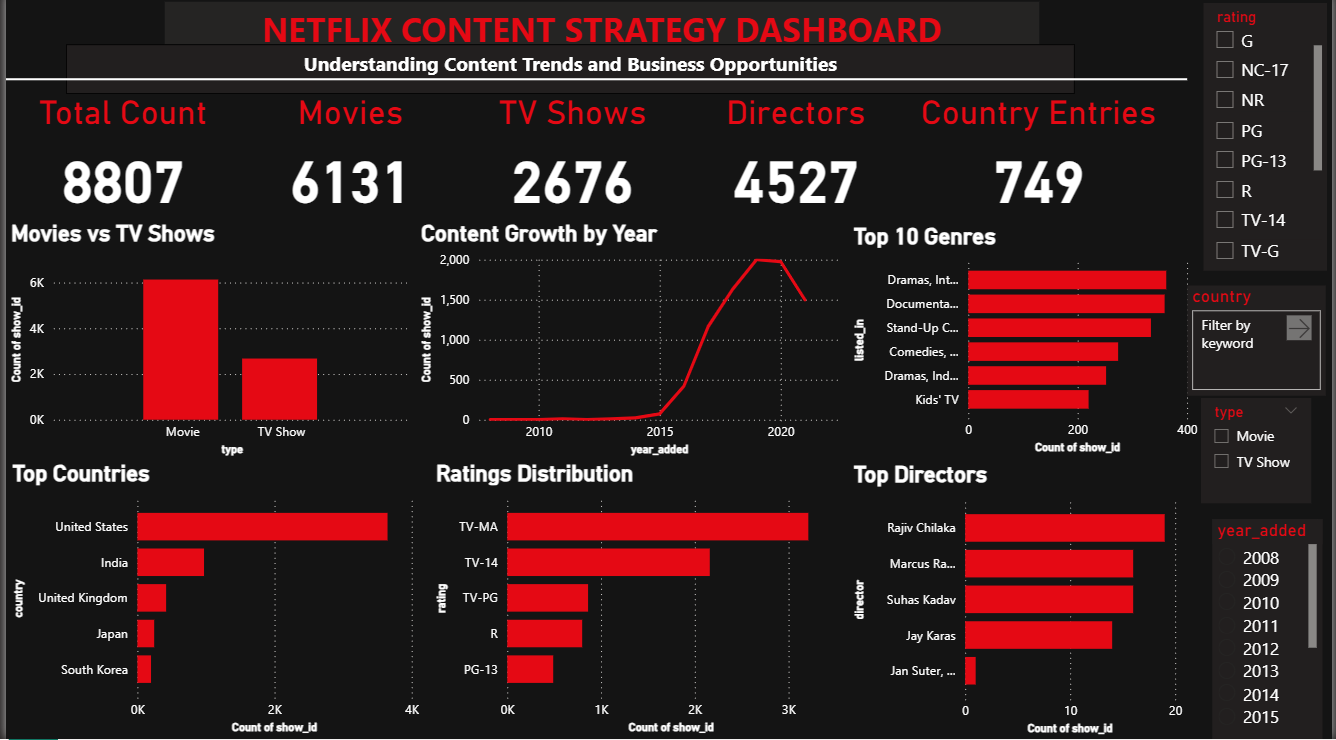

Layout of this report page (visuals, bound fields, positions):
{"tool":"powerbi","page":{"name":"Page 1","canvas":[1280,720],"ordinal":0},"visuals":[{"type":"card","title":"Total Count","fields":{"Values":["Count(netflix_cleaned.show_id)"]},"box":[1.2,97,223.6,122.6],"z":0},{"type":"card","title":"Movies","fields":{"Values":["netflix_cleaned.Movies"]},"box":[224.8,97,216.4,122.6],"z":1000},{"type":"card","title":"TV Shows","fields":{"Values":["netflix_cleaned.TV Shows"]},"box":[441.2,97,210.6,122.6],"z":2000},{"type":"card","title":"Directors","fields":{"Values":["Count(netflix_cleaned.director)"]},"box":[651.8,97,222.2,122.6],"z":3000},{"type":"card","title":"Country Entries","fields":{"Values":["Count(netflix_cleaned.country)"]},"box":[874,97,246.7,122.6],"z":4000},{"type":"clusteredColumnChart","title":"Movies vs TV Shows","fields":{"Category":["netflix_cleaned.type"],"Y":["CountNonNull(netflix_cleaned.show_id)"]},"box":[0,219.5,395.3,232.3],"z":5000},{"type":"lineChart","title":"Content Growth by Year","fields":{"Y":["CountNonNull(netflix_cleaned.show_id)"],"Category":["netflix_cleaned.year_added"]},"box":[395.3,219.5,417,232.3],"z":6000},{"type":"clusteredBarChart","title":"Top Countries","fields":{"Y":["CountNonNull(netflix_cleaned.show_id)"],"Category":["netflix_cleaned.country"]},"box":[1.4,451.6,402.5,268.4],"z":7000},{"type":"clusteredBarChart","title":"Ratings Distribution","fields":{"Y":["CountNonNull(netflix_cleaned.show_id)"],"Category":["netflix_cleaned.rating"]},"box":[410.5,451.6,402.5,268.4],"z":8000},{"type":"clusteredBarChart","title":"Top 10 Genres","fields":{"Category":["netflix_cleaned.listed_in"],"Y":["CountNonNull(netflix_cleaned.show_id)"]},"box":[813.7,222.2,341.9,228],"z":9000},{"type":"clusteredBarChart","title":"Top Directors","fields":{"Y":["CountNonNull(netflix_cleaned.show_id)"],"Category":["netflix_cleaned.director"]},"box":[813.4,452.1,327.5,268.7],"z":10000},{"type":"textSlicer","fields":{"Values":["netflix_cleaned.country"]},"box":[1140.1,282.3,133.9,106.2],"z":11000},{"type":"listSlicer","fields":{"Values":["netflix_cleaned.year_added"]},"box":[1164.3,507.9,106.8,212.1],"z":13000},{"type":"slicer","fields":{"Values":["netflix_cleaned.rating"]},"box":[1155.3,9.2,119.2,258.6],"z":14000},{"type":"textbox","box":[152.9,8.7,844,53.4],"z":15000},{"type":"textbox","box":[57.7,49.1,973.9,47.6],"z":16000},{"type":"shape","box":[0,8.4,1140.1,149.6],"z":16001},{"type":"slicer","fields":{"Values":["netflix_cleaned.type"]},"box":[1153.4,390.9,106.2,101.3],"z":16002}]}

Visuals, with their boxes in screenshot pixels (x1, y1, x2, y2), scaled from the page's 1280x720 canvas onto the 1336x740 screenshot:
"Total Count" card: bbox=(1, 100, 235, 226)
"Movies" card: bbox=(235, 100, 461, 226)
"TV Shows" card: bbox=(461, 100, 680, 226)
"Directors" card: bbox=(680, 100, 912, 226)
"Country Entries" card: bbox=(912, 100, 1170, 226)
"Movies vs TV Shows" clusteredColumnChart: bbox=(0, 226, 413, 464)
"Content Growth by Year" lineChart: bbox=(413, 226, 848, 464)
"Top Countries" clusteredBarChart: bbox=(1, 464, 422, 739)
"Ratings Distribution" clusteredBarChart: bbox=(428, 464, 849, 739)
"Top 10 Genres" clusteredBarChart: bbox=(849, 228, 1206, 463)
"Top Directors" clusteredBarChart: bbox=(849, 465, 1191, 739)
textSlicer - netflix_cleaned.country: bbox=(1190, 290, 1330, 399)
listSlicer - netflix_cleaned.year_added: bbox=(1215, 522, 1327, 739)
slicer - netflix_cleaned.rating: bbox=(1206, 9, 1330, 275)
textbox: bbox=(160, 9, 1041, 64)
textbox: bbox=(60, 50, 1077, 99)
shape: bbox=(0, 9, 1190, 162)
slicer - netflix_cleaned.type: bbox=(1204, 402, 1315, 506)
